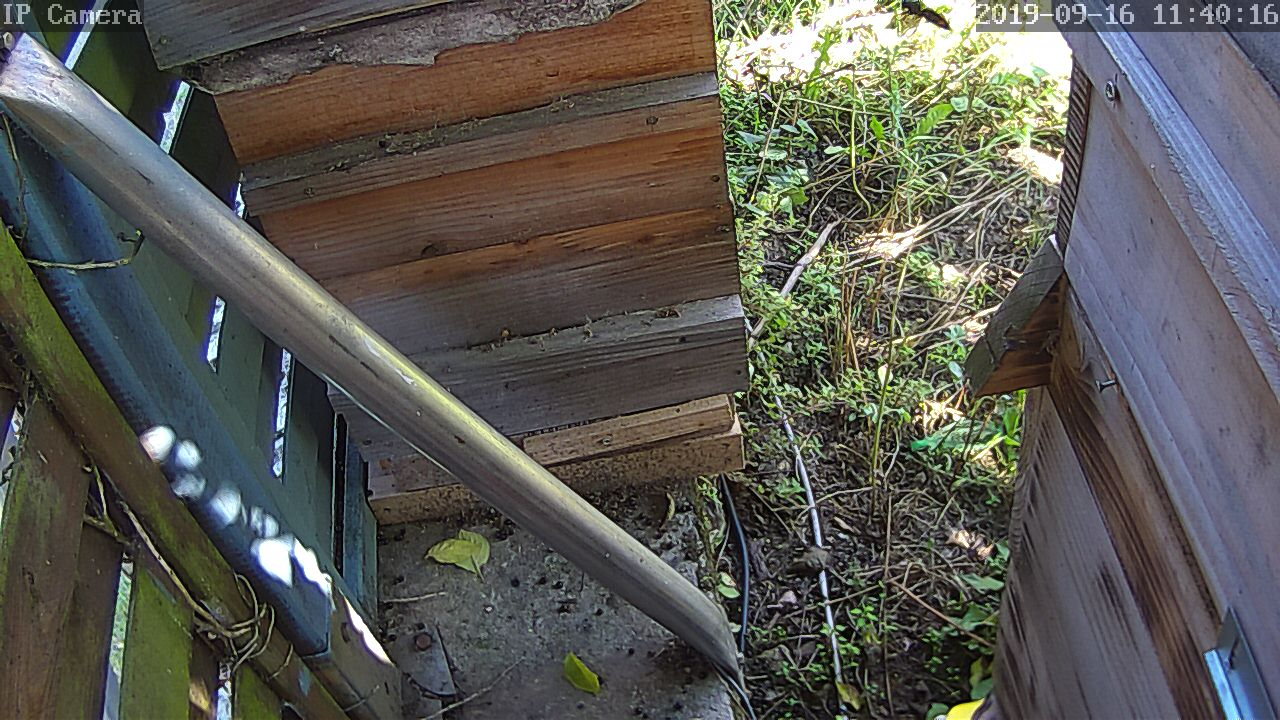hornet: (894, 0, 957, 33)
